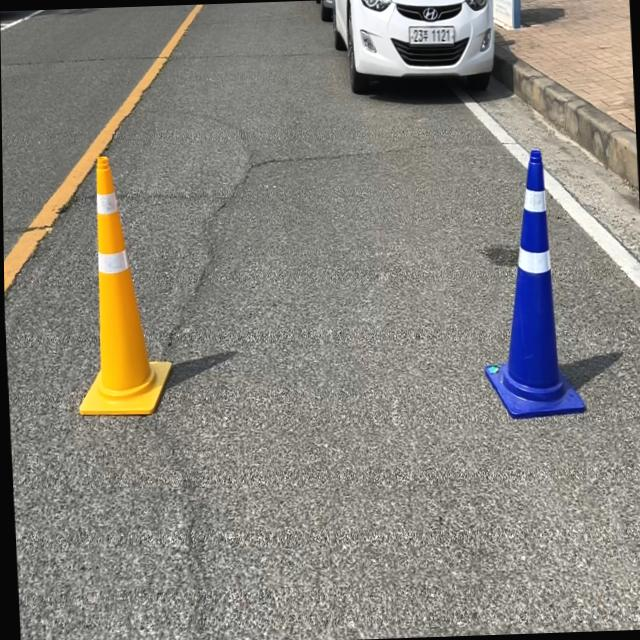b_rub: (484, 148, 585, 417)
y_rub: (77, 154, 169, 414)
